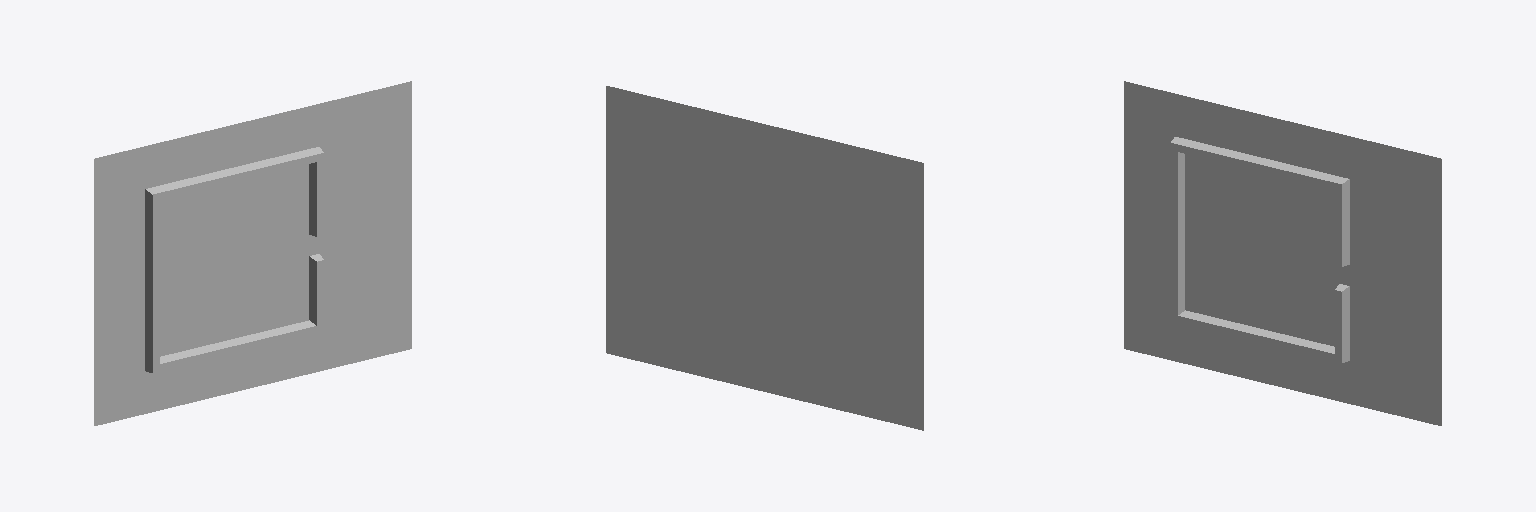
Rendered from floor.obj.
The picture shows the model from 3 angles: view 1: azimuth 30°, elevation 25°; view 2: azimuth 150°, elevation 25°; view 3: azimuth 330°, elevation 25°; orthographic projection.
Parts seen in each view (by area): view 1: Plane, Cube; view 2: Plane; view 3: Plane, Cube.
Part boxes in pixels (x1,y1,x2,y2): Plane: (94,81,411,425); Cube: (145,147,323,372); Plane: (606,86,923,430); Plane: (1124,81,1441,425); Cube: (1171,137,1349,362).
Bounding box in the file's own units: 31 × 25 × 1.